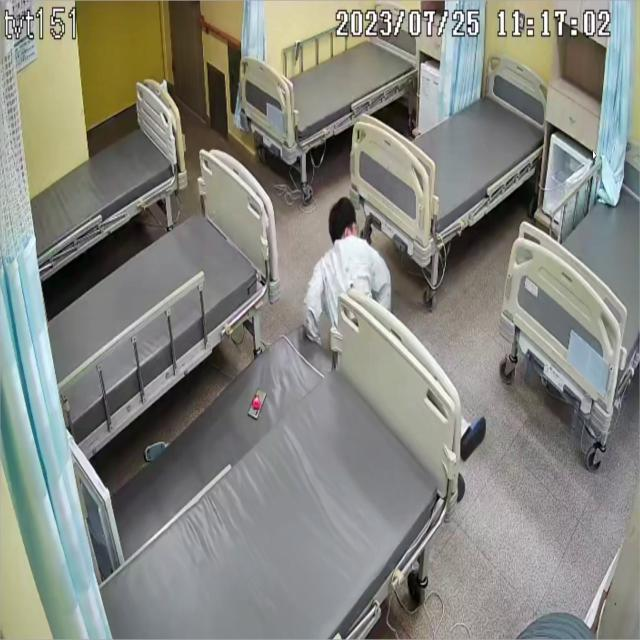bed: (98, 298, 453, 640), (42, 154, 276, 448), (504, 142, 640, 434), (348, 61, 544, 243), (28, 79, 187, 276), (244, 17, 417, 162)
fall: (304, 198, 392, 368)
patient: (304, 198, 392, 366)
